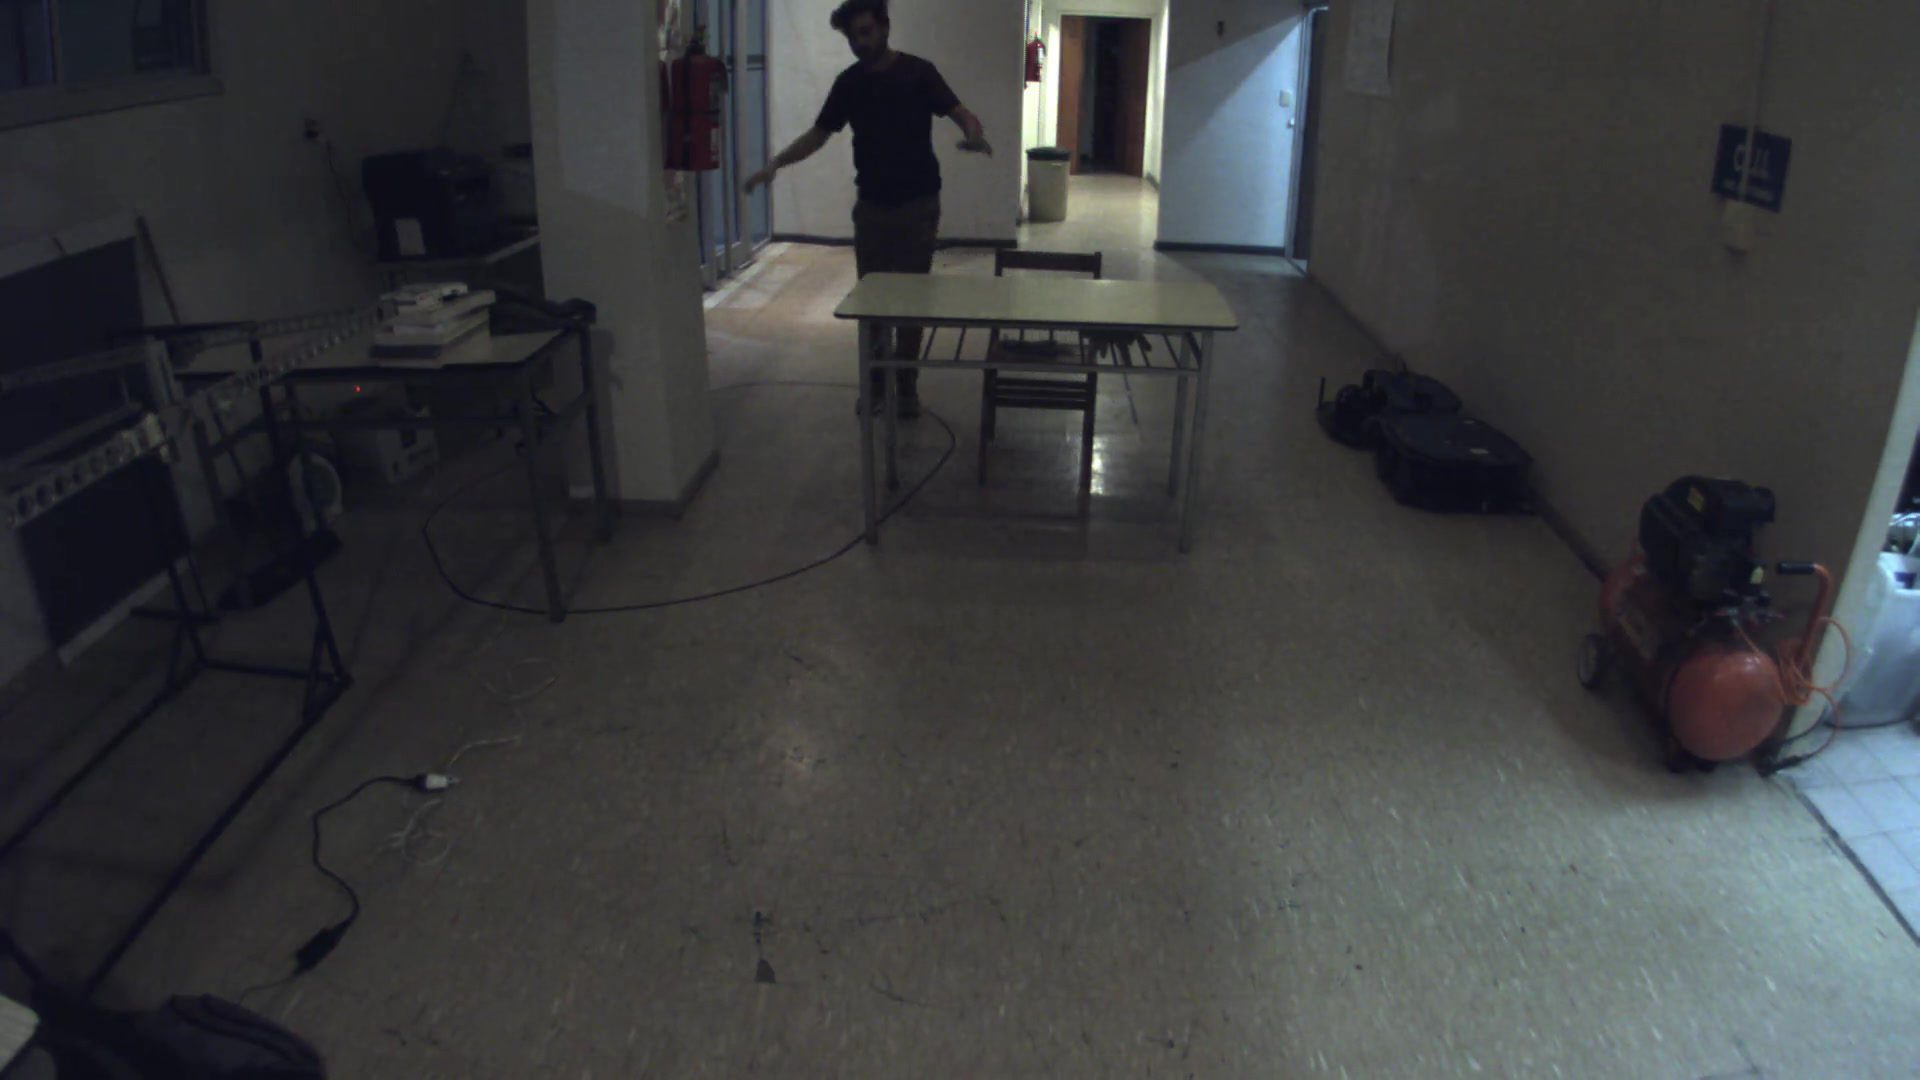hand: (945, 129, 1005, 178), (735, 156, 781, 200)
